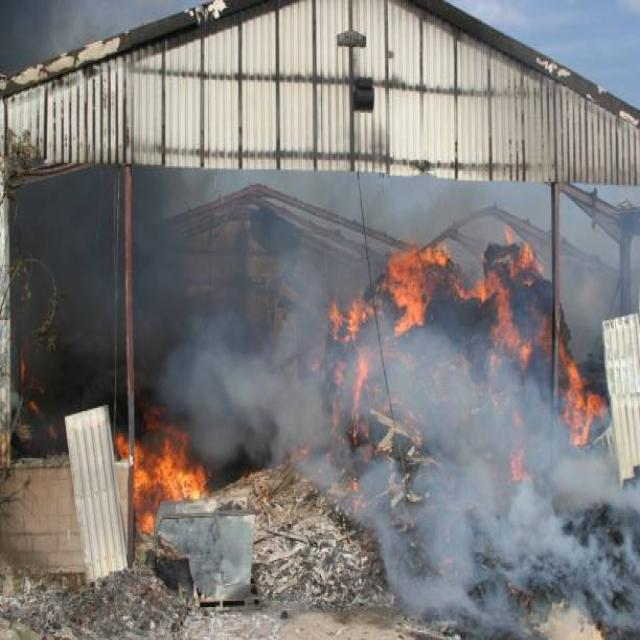Fire: (470, 244, 600, 461), (116, 416, 207, 530), (376, 228, 449, 324)
Smoke: (340, 339, 640, 629), (175, 286, 347, 486)
